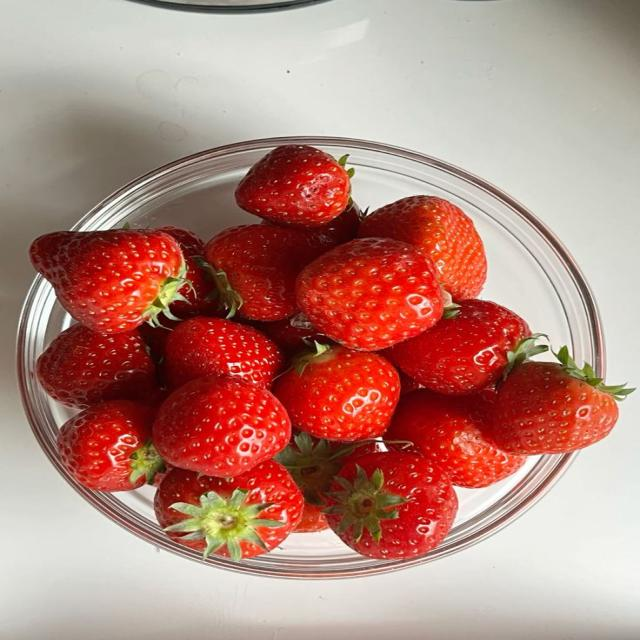strawberry: (296, 239, 443, 350), (30, 230, 185, 333), (154, 460, 303, 561), (492, 348, 633, 454), (325, 453, 457, 559), (386, 389, 525, 487), (154, 376, 290, 476), (386, 300, 530, 394), (360, 196, 486, 300), (274, 344, 399, 440), (205, 225, 321, 320), (274, 432, 379, 532), (36, 325, 157, 408), (58, 400, 164, 491), (235, 145, 350, 227), (163, 318, 284, 388), (274, 432, 353, 505), (156, 226, 218, 318), (258, 313, 330, 354), (302, 203, 363, 251), (306, 203, 362, 250), (138, 318, 182, 364), (294, 502, 328, 533), (398, 369, 423, 394)
